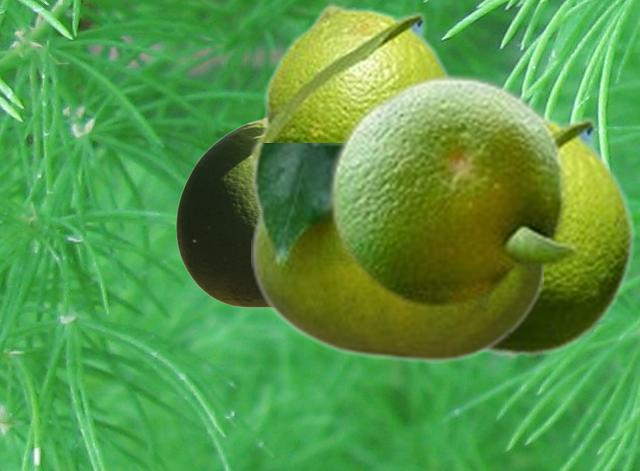dalandan: (251, 143, 542, 362), (326, 70, 583, 308), (477, 111, 636, 358), (247, 3, 451, 167), (175, 118, 268, 308)
